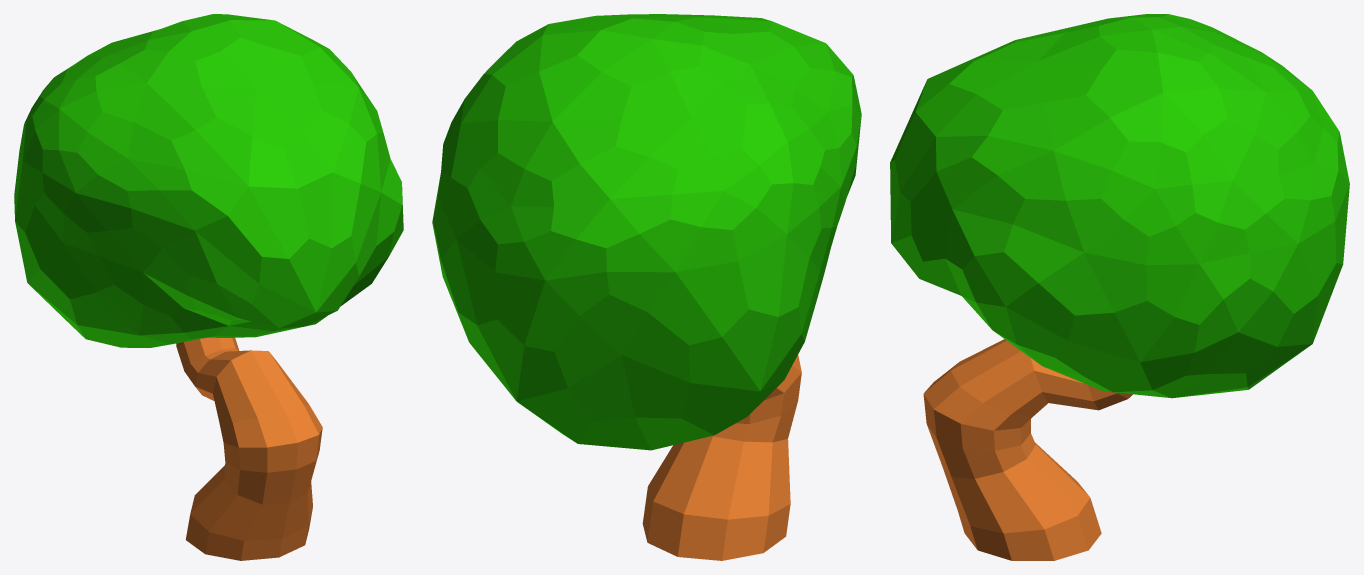
File: derevo1 (1).fbx
The picture shows the model from 3 angles, left to right: view 1: azimuth 30°, elevation 25°; view 2: azimuth 150°, elevation 25°; view 3: azimuth 270°, elevation 25°; orthographic projection. The views are drawn at different scales.
Visible parts, largest first — view 1: Icosphere, Cylinder; view 2: Icosphere, Cylinder; view 3: Icosphere, Cylinder.
Boxes of the visible parts, <box> form: Icosphere: <box>14,14,403,347</box>; Cylinder: <box>176,337,322,560</box>; Icosphere: <box>432,14,861,450</box>; Cylinder: <box>642,354,801,560</box>; Icosphere: <box>890,14,1349,398</box>; Cylinder: <box>923,339,1132,560</box>.
Size of the model in its own units: 319 by 376 by 454.
